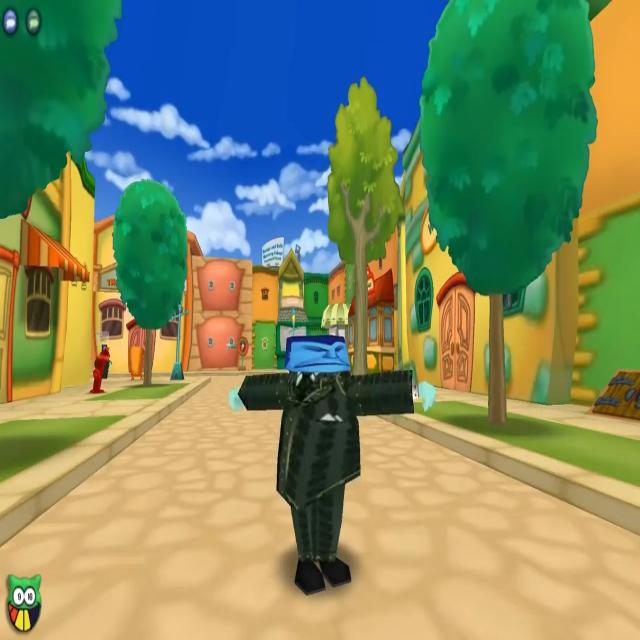shortchange: (223, 310, 434, 600)
